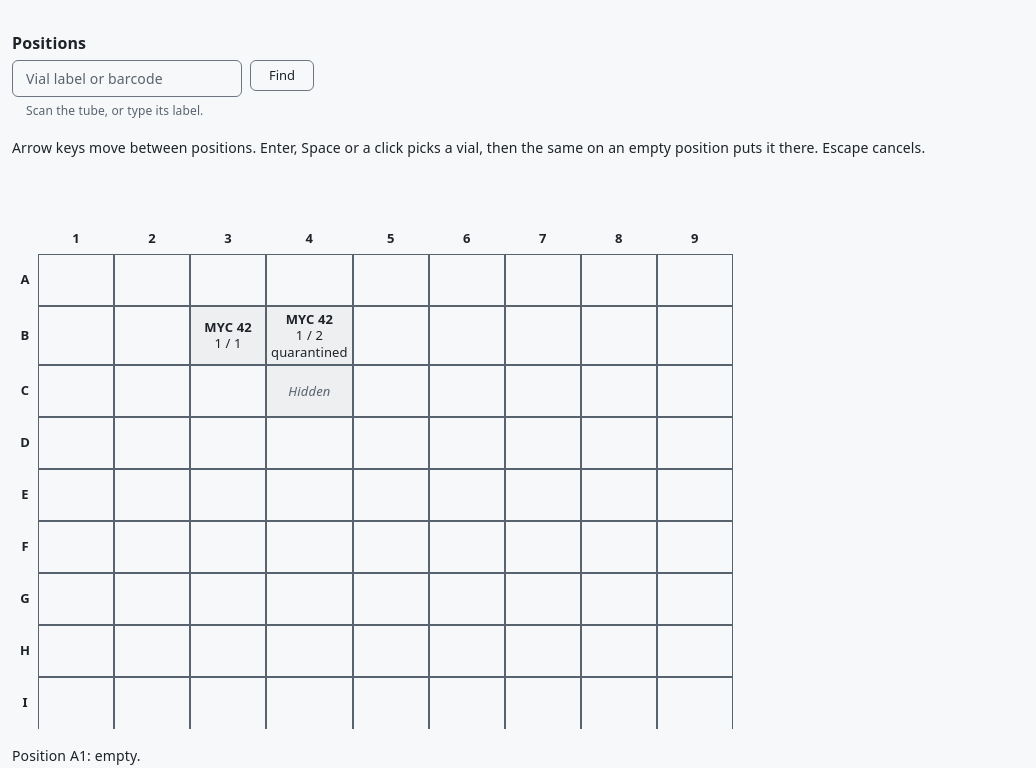
Test case: BoxPositions › Cancel move, for a mouse, puts the focus back on the vial
Expected: the table is shown, [12,222,733,729]
Click the cell named "B3,".
click(228, 335)  # box [190,306,266,365]
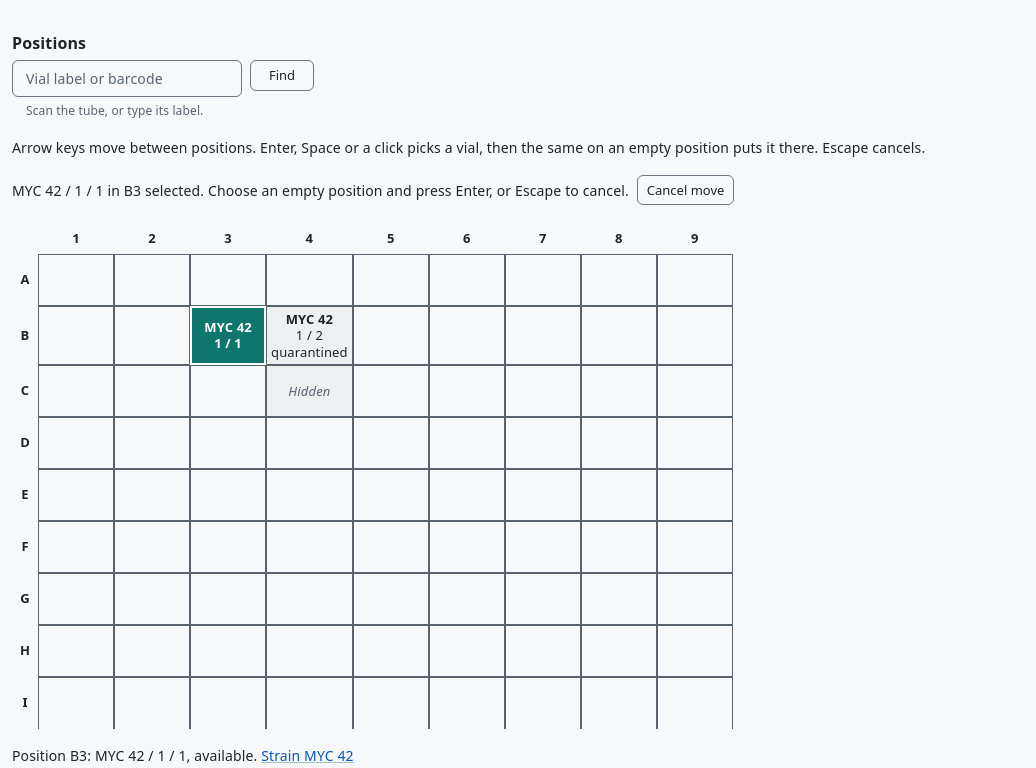
Click the button "Cancel move".
click(686, 190)  # box [637,175,734,205]
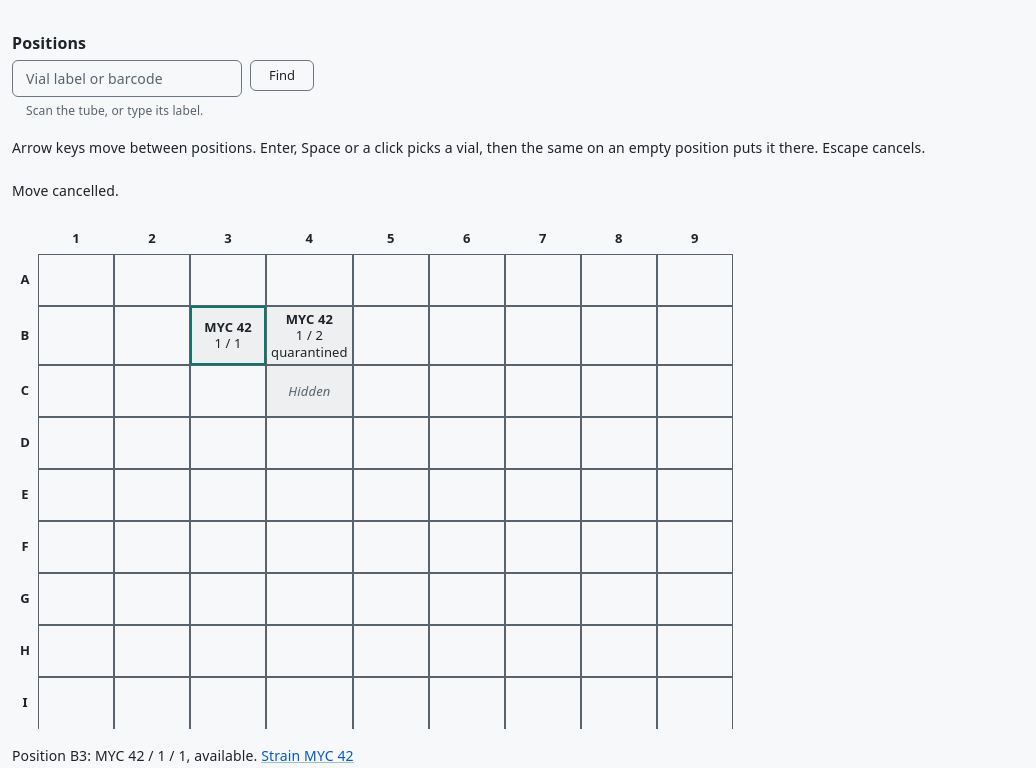
Expected: the button "Cancel move" is gone
